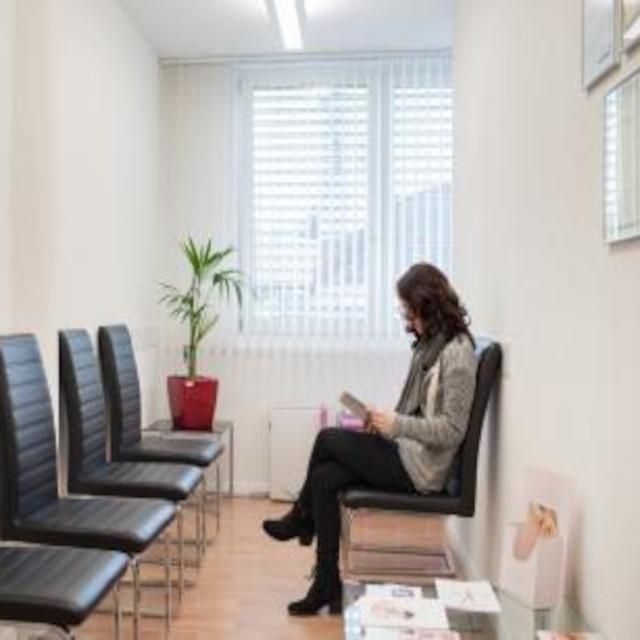kobieta: (276, 259, 491, 616)
